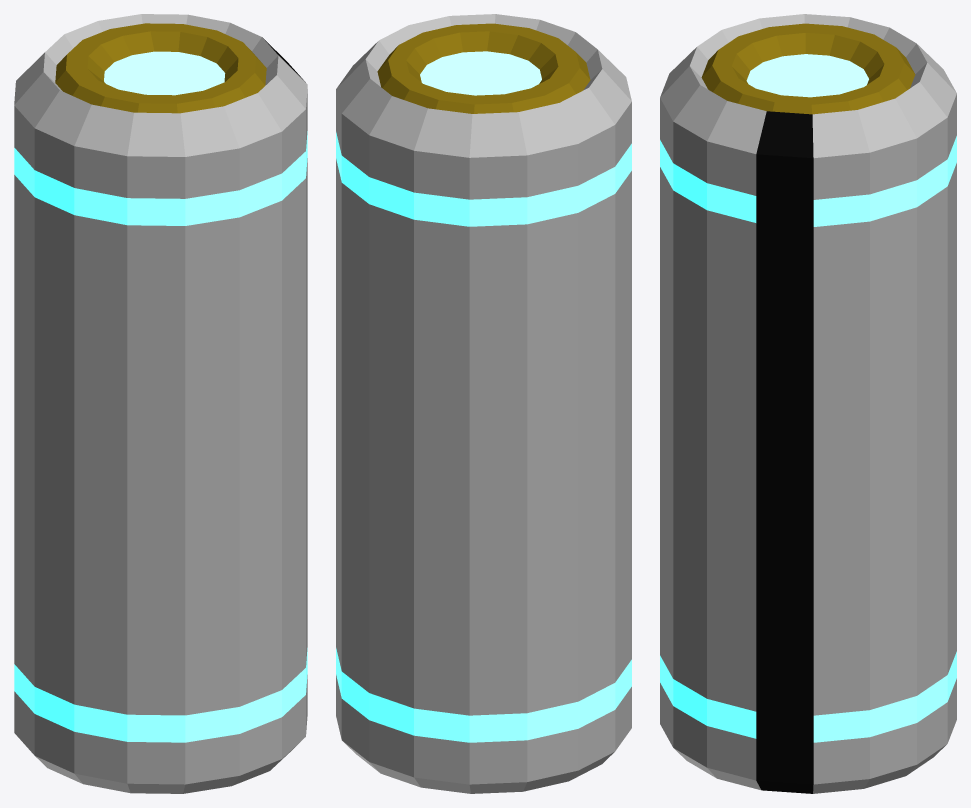
Rendered from Small Energy can .fbx.
3 views of the same model, side by side, from view 1: azimuth 30°, elevation 25°; view 2: azimuth 150°, elevation 25°; view 3: azimuth 270°, elevation 25° (orthographic).
Parts seen in each view (by area): view 1: Cylinder; view 2: Cylinder; view 3: Cylinder.
Boxes of the visible parts, box(x1,y1,x2,y2) form: Cylinder: box(14, 14, 307, 793); Cylinder: box(336, 14, 631, 793); Cylinder: box(660, 14, 956, 793).
Size of the model in its own units: 39.98 by 100 by 39.98.
